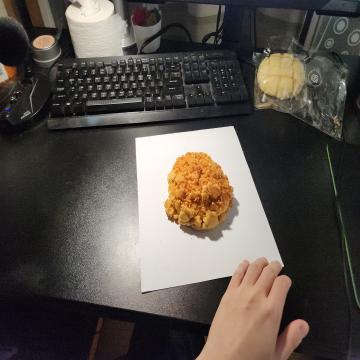soboru_bread: (165, 150, 234, 232)
